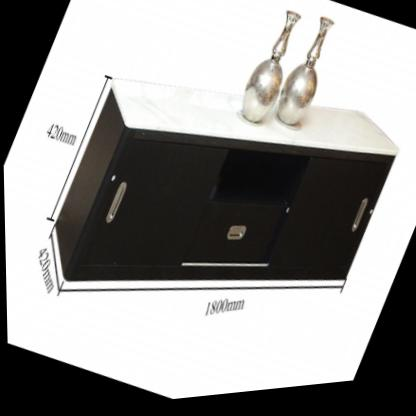TV stand: (29, 8, 415, 393)
